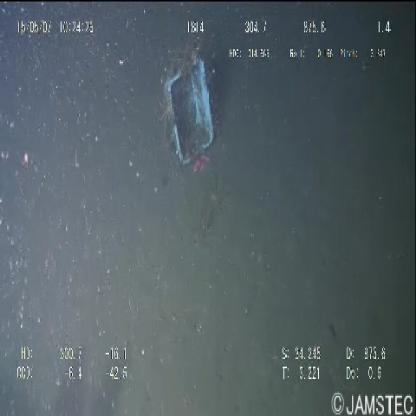Rác: (160, 46, 218, 173)
